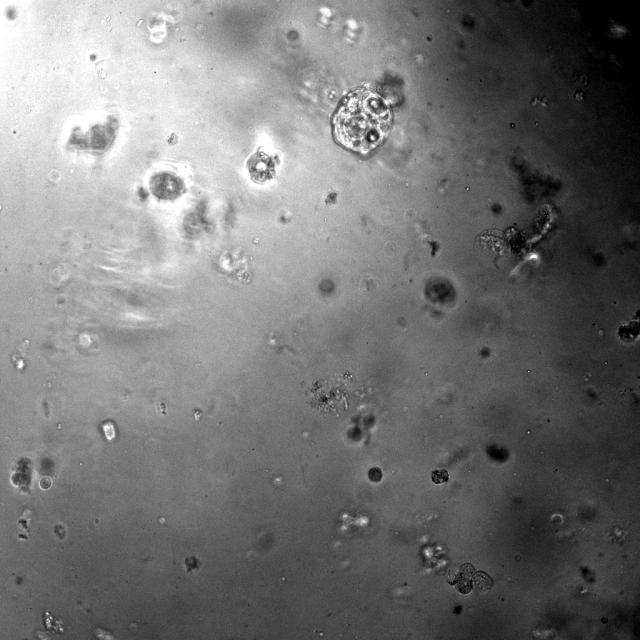organoid: (331, 74, 404, 156), (474, 204, 558, 269), (67, 115, 119, 153), (447, 563, 493, 595), (246, 145, 280, 184), (138, 172, 184, 200), (618, 311, 639, 345), (11, 458, 32, 490), (43, 611, 63, 633), (431, 469, 449, 483), (369, 466, 382, 482), (39, 476, 52, 490)
